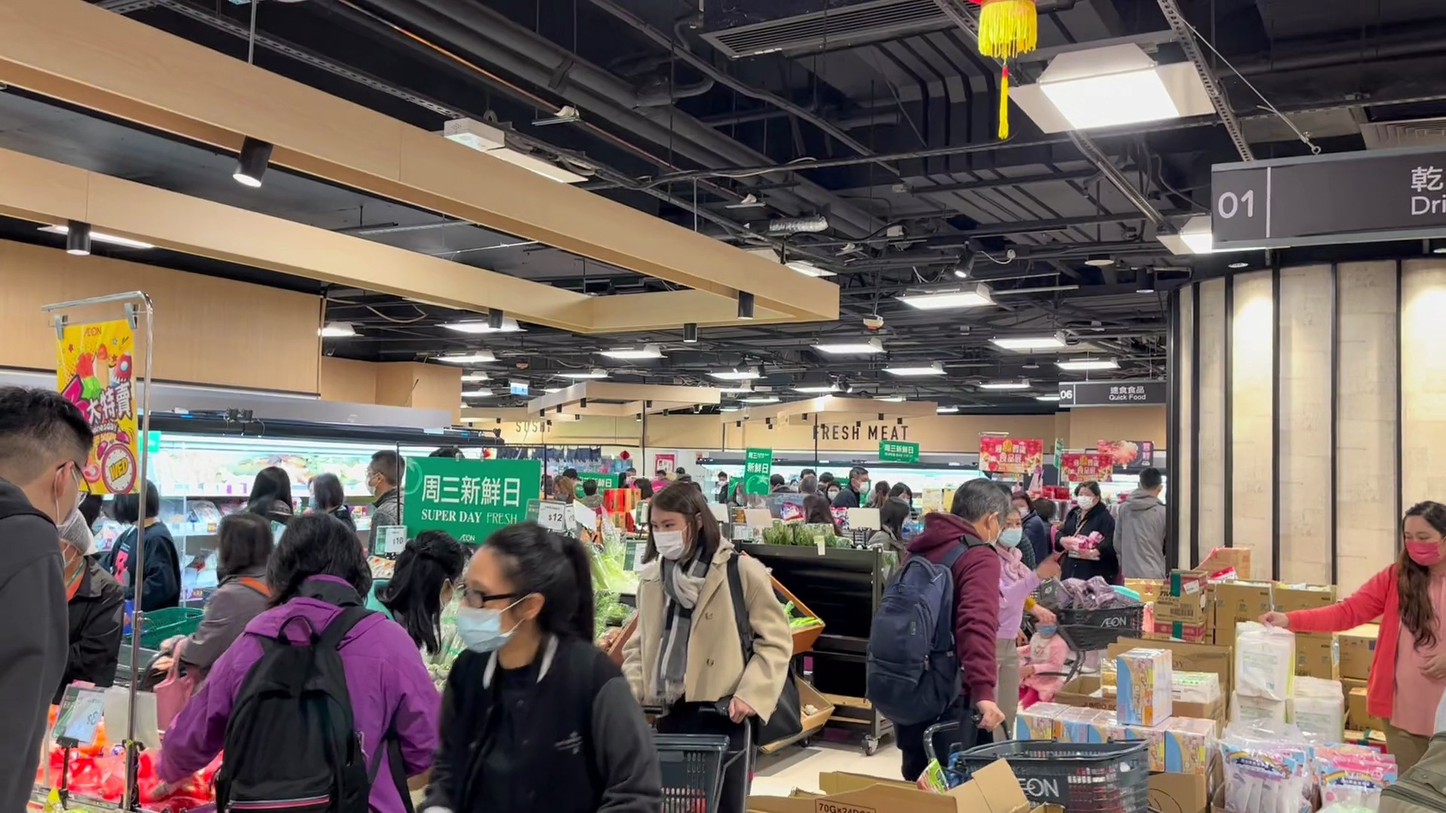dates_box: (232, 0, 1006, 479), (904, 0, 1446, 477), (191, 527, 749, 813), (1088, 0, 1446, 273), (880, 236, 1183, 439)
electronics: (691, 174, 1211, 813), (923, 263, 1445, 813), (827, 136, 1212, 813), (1076, 391, 1445, 813), (1154, 280, 1445, 813), (1259, 6, 1446, 781), (1253, 254, 1446, 813), (0, 472, 279, 813), (1211, 420, 1445, 813), (40, 292, 156, 490)
wallet: (1213, 2, 1446, 268), (1207, 160, 1329, 254)
watch: (1, 0, 514, 802), (890, 0, 1415, 548), (868, 63, 1371, 607), (1, 92, 362, 813), (0, 181, 270, 813), (555, 519, 902, 813)
